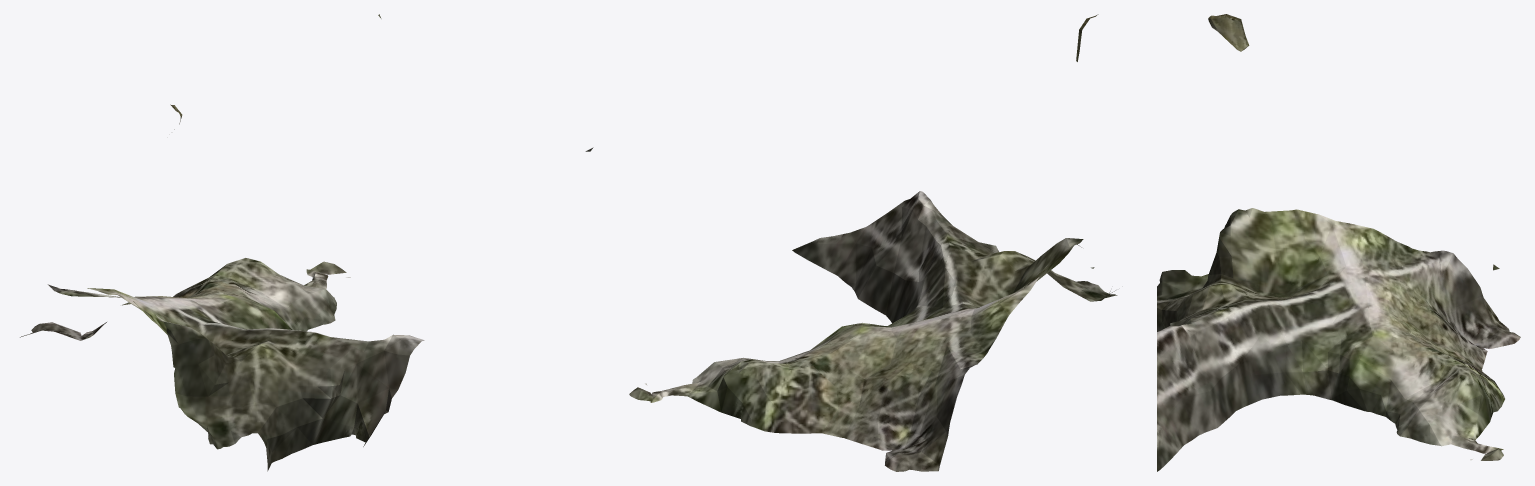
3 renders of one model, left to right at view 1: azimuth 30°, elevation 25°; view 2: azimuth 150°, elevation 25°; view 3: azimuth 270°, elevation 25°, orthographic. The views are drawn at different scales.
Bounding box in the file's own units: 2.89 × 2.66 × 2.84.
2 materials, 2 textured.
